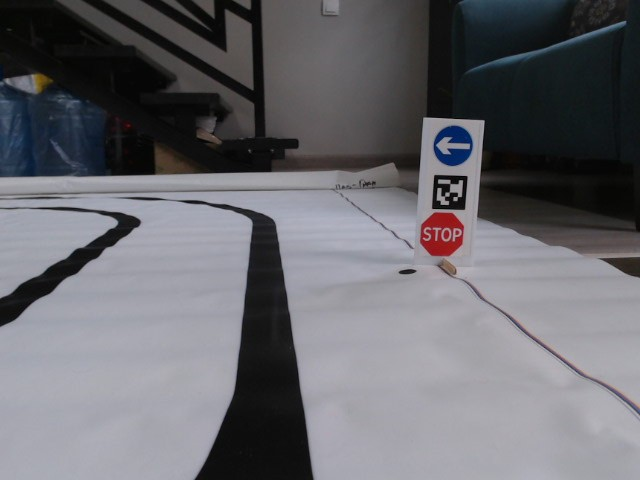Stop: (419, 211, 463, 260)
